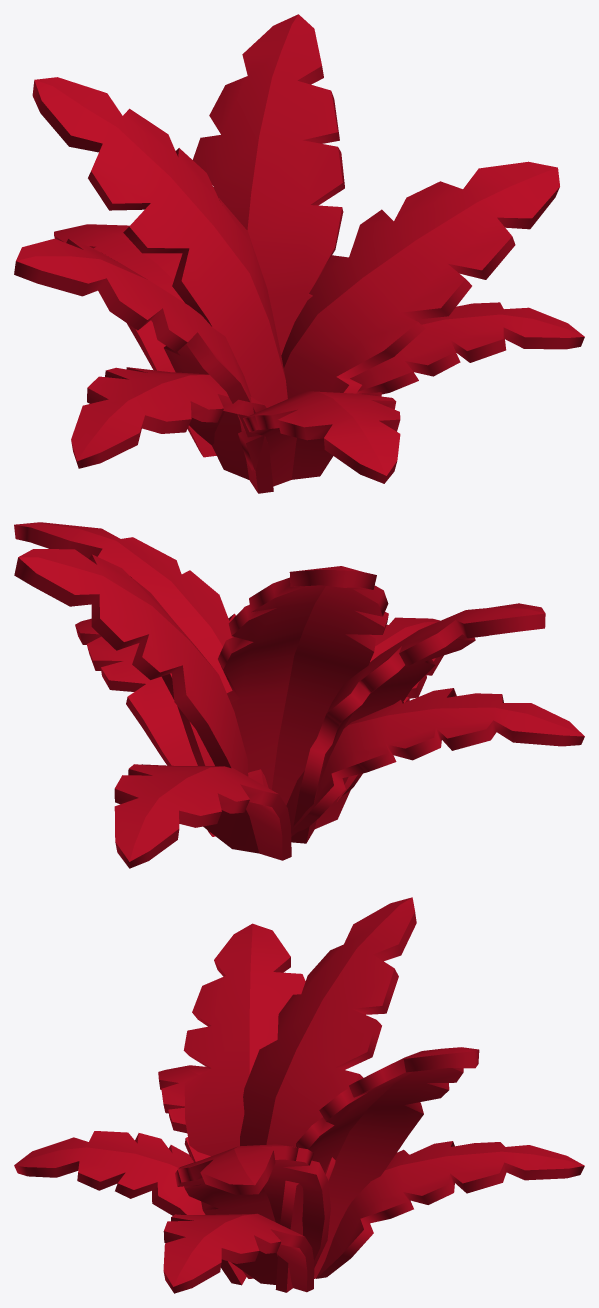
The model's file is Forest_Fern.obj.
The picture shows the model from 3 angles, top to bottom: view 1: azimuth 30°, elevation 25°; view 2: azimuth 150°, elevation 25°; view 3: azimuth 270°, elevation 25°; orthographic projection. The views are drawn at different scales.
Visible parts, largest first — view 1: Forest_Fern; view 2: Forest_Fern; view 3: Forest_Fern.
Part boxes in pixels (x1,y1,x2,y2): Forest_Fern: (14, 14, 584, 493); Forest_Fern: (14, 522, 584, 868); Forest_Fern: (14, 897, 584, 1293).
Bounding box in the file's own units: 0.5995 × 0.3821 × 0.6362.
